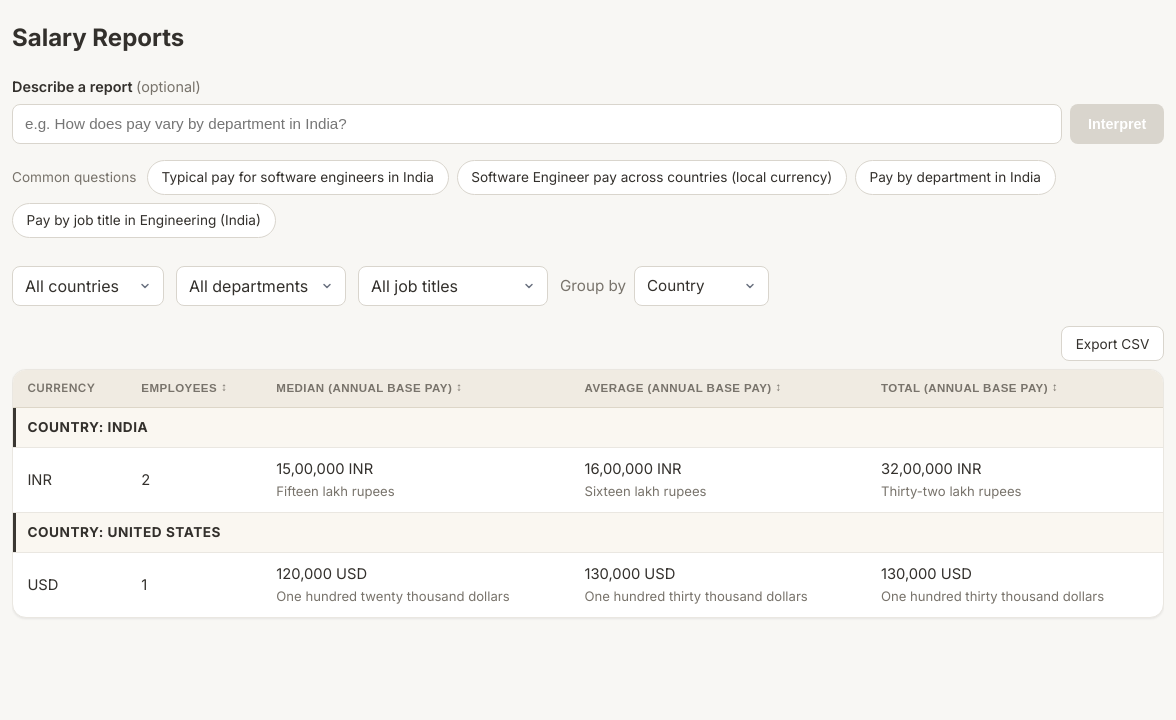
Test case: ReportsPage › explains when a "Describe a report" question is not understood, leaving filters unchanged
The image size is (1176, 720).
Type "what is the weather today?" into the field labelled "Describe a report (optional)" at (537, 124), box top-left (12, 104), bottom-right (1062, 144)
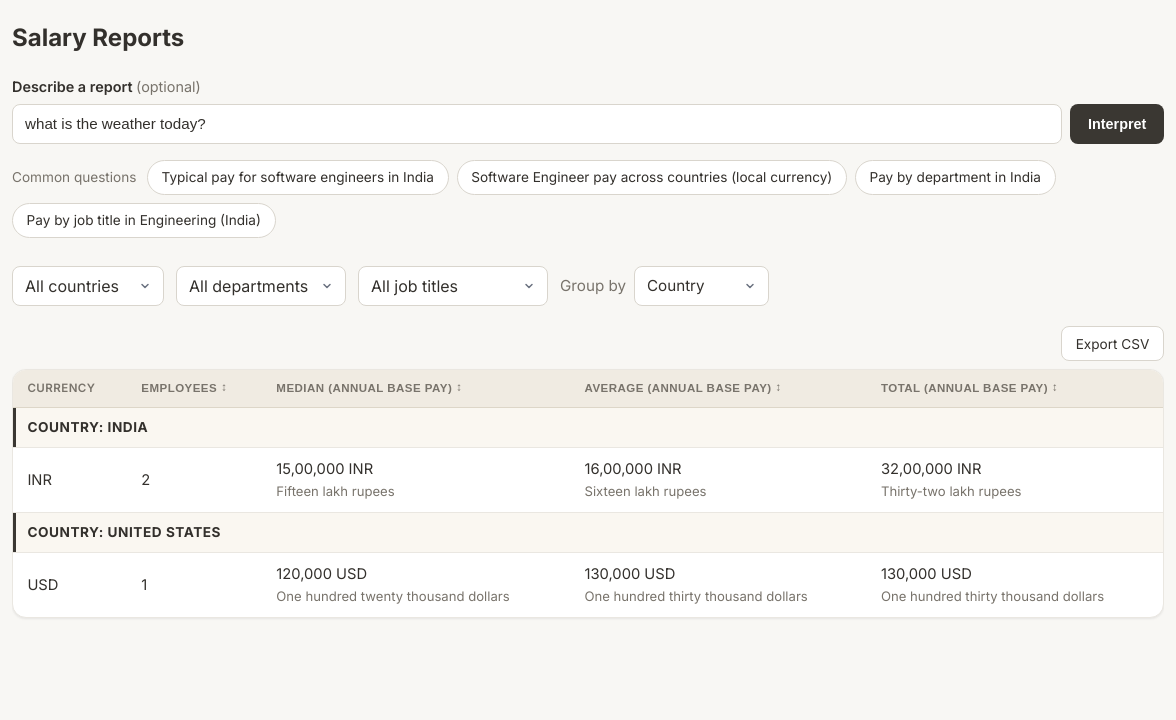
Click the button "Interpret" at (1117, 124), box top-left (1070, 104), bottom-right (1164, 144)
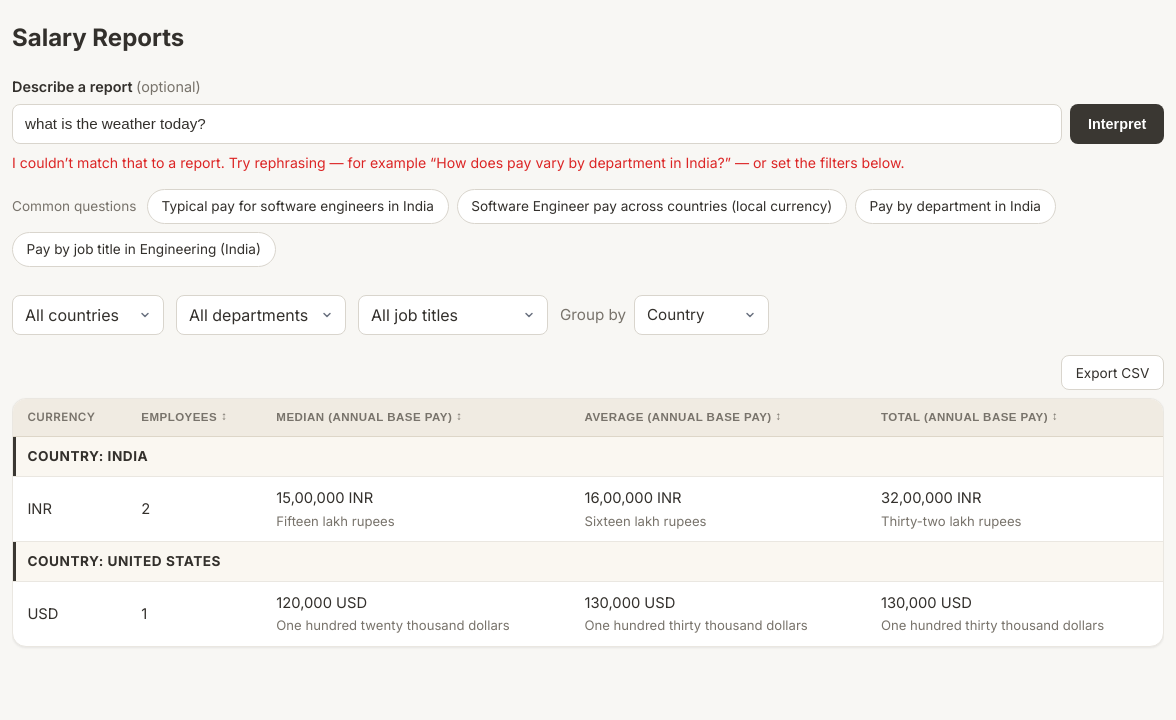
Check: the dropdown named "Country" shows "All countries", box top-left (12, 295), bottom-right (164, 335)
Check: the message shows "match that to a report", box top-left (12, 154), bottom-right (904, 171)
